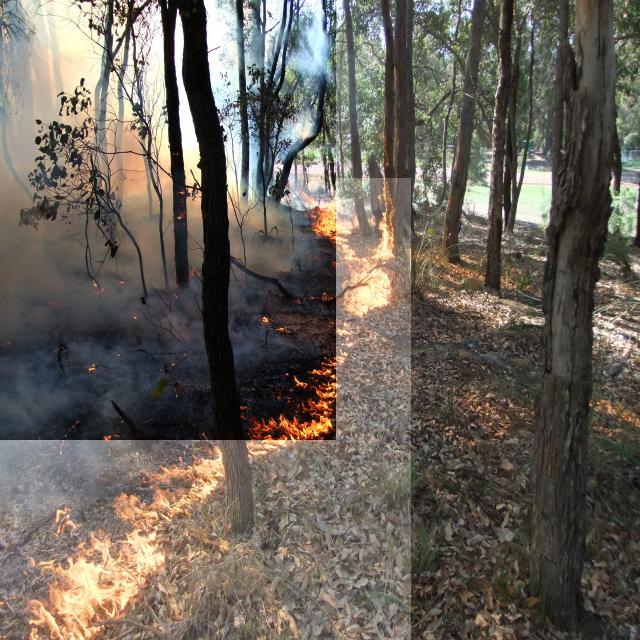Fire: (0, 178, 411, 640)
Smoke: (0, 0, 336, 440)
